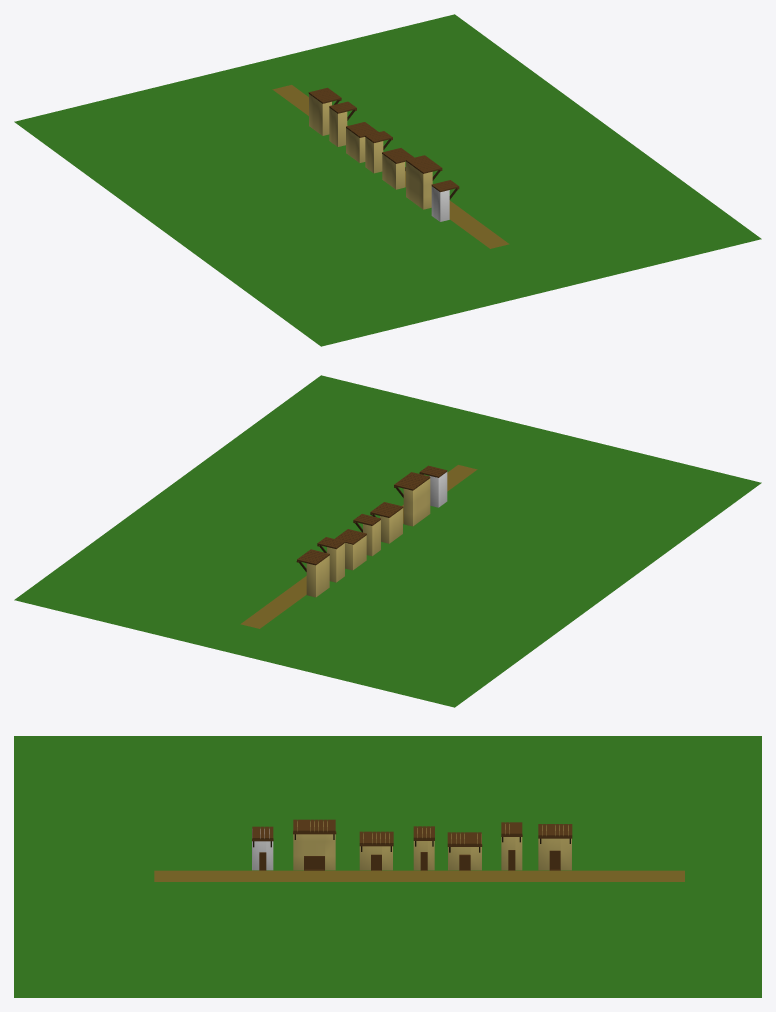
File: Level 1.fbx
3 renders of one model, top to bottom at view 1: azimuth 30°, elevation 25°; view 2: azimuth 150°, elevation 25°; view 3: azimuth 270°, elevation 25°, orthographic. The views are drawn at different scales.
Visible parts, largest first — view 1: Plane002, Plane001, Box044, Box063, Box045, Box048, Box042, Box046; view 2: Plane002, Plane001, Box044, Box063, Box045, Box047; view 3: Plane002, Plane001, Box044, Box063, Box045, Box047, Box048, Box046, Box042.
Part boxes in pixels (x1=…): Plane002: x1=14, y1=14, x2=761, y2=346; Plane001: x1=272, y1=85, x2=509, y2=248; Box044: x1=406, y1=161, x2=432, y2=209; Box063: x1=309, y1=94, x2=331, y2=135; Box045: x1=382, y1=154, x2=405, y2=189; Box048: x1=329, y1=108, x2=347, y2=146; Box042: x1=431, y1=186, x2=449, y2=221; Box046: x1=365, y1=137, x2=383, y2=173; Plane002: x1=14, y1=375, x2=761, y2=707; Plane001: x1=240, y1=465, x2=477, y2=628; Box044: x1=403, y1=478, x2=430, y2=526; Box063: x1=306, y1=555, x2=329, y2=597; Box045: x1=380, y1=508, x2=402, y2=543; Box047: x1=345, y1=535, x2=366, y2=570; Plane002: x1=14, y1=736, x2=761, y2=997; Plane001: x1=154, y1=870, x2=684, y2=881; Box044: x1=293, y1=821, x2=335, y2=870; Box063: x1=538, y1=825, x2=571, y2=870; Box045: x1=359, y1=833, x2=392, y2=870; Box047: x1=448, y1=834, x2=481, y2=870; Box048: x1=501, y1=824, x2=522, y2=870; Box046: x1=413, y1=828, x2=434, y2=870; Box042: x1=252, y1=829, x2=273, y2=870.
Size of the model in its own units: 2316 by 187 by 2795.
